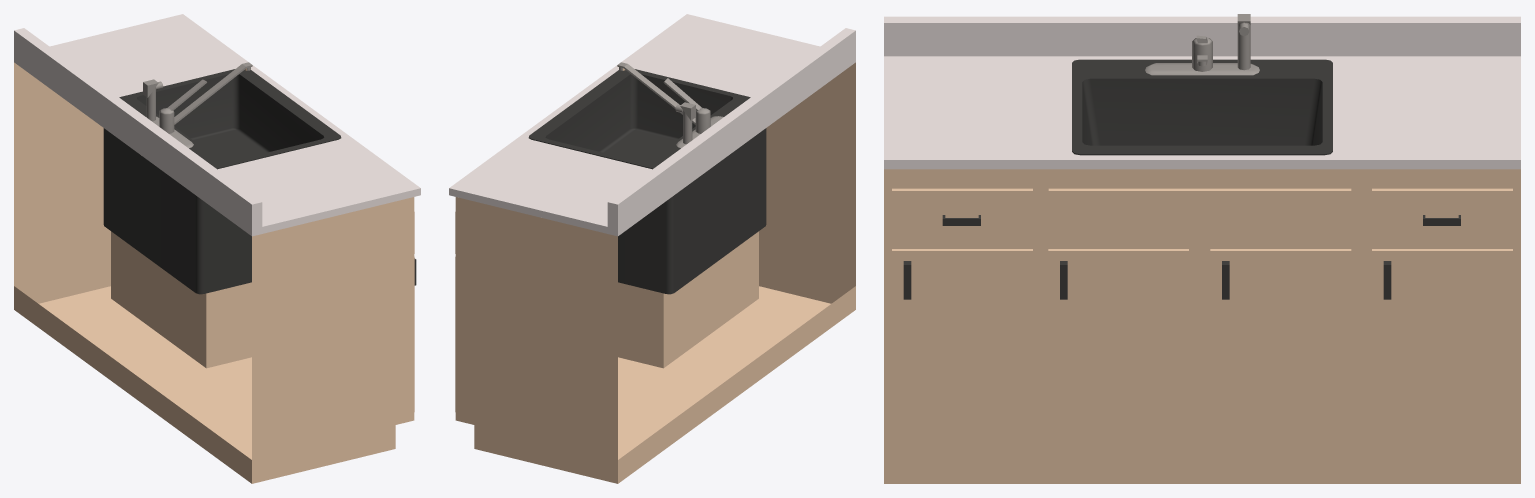
File: Sink_Faucet.fbx
3 views of the same model, side by side, from view 1: azimuth 30°, elevation 25°; view 2: azimuth 150°, elevation 25°; view 3: azimuth 270°, elevation 25° (orthographic). The views are drawn at different scales.
Parts seen in each view (by area): view 1: Sink_Faucet; view 2: Sink_Faucet; view 3: Sink_Faucet.
Part boxes in pixels (bbox=[...]): Sink_Faucet: bbox=[14, 14, 420, 483]; Sink_Faucet: bbox=[449, 14, 855, 483]; Sink_Faucet: bbox=[884, 14, 1520, 483].
Bounding box in the file's own units: 151 × 257 × 364.
